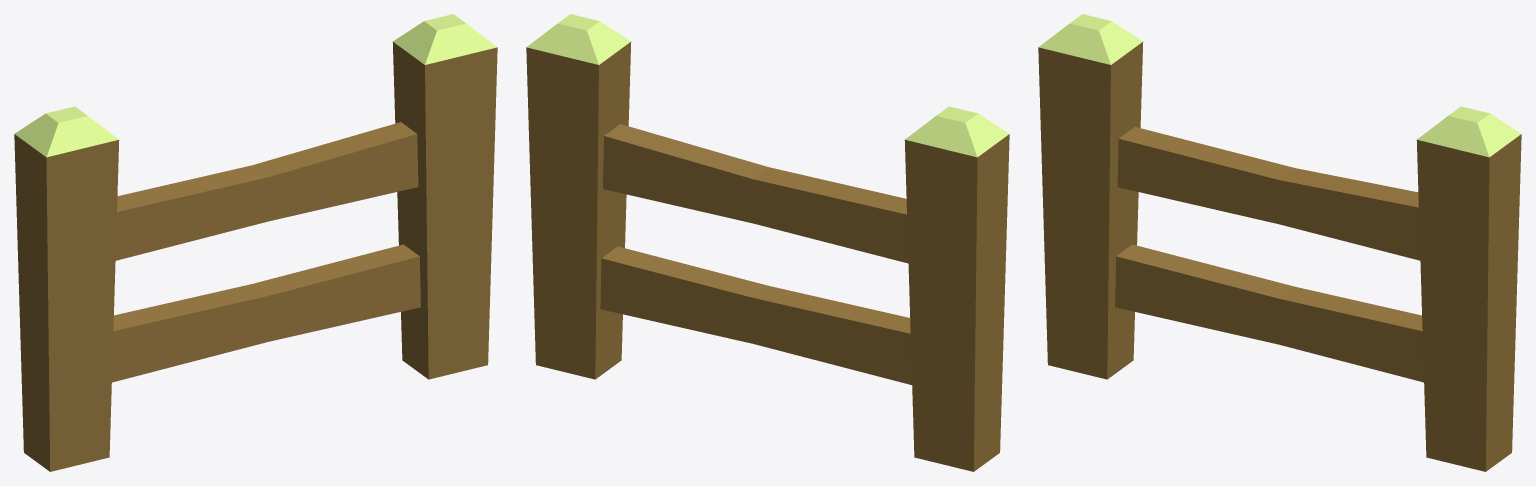
Rendered from Fence1.fbx.
3 views of the same model, side by side, from view 1: azimuth 30°, elevation 25°; view 2: azimuth 150°, elevation 25°; view 3: azimuth 330°, elevation 25° (orthographic).
Visible parts, largest first — view 1: Fence1; view 2: Fence1; view 3: Fence1.
Part boxes in pixels (x1,y1,x2,y2): Fence1: (14, 14, 497, 471); Fence1: (526, 14, 1009, 471); Fence1: (1038, 14, 1521, 471).
Bounding box in the file's own units: 168 × 121 × 20.7.
